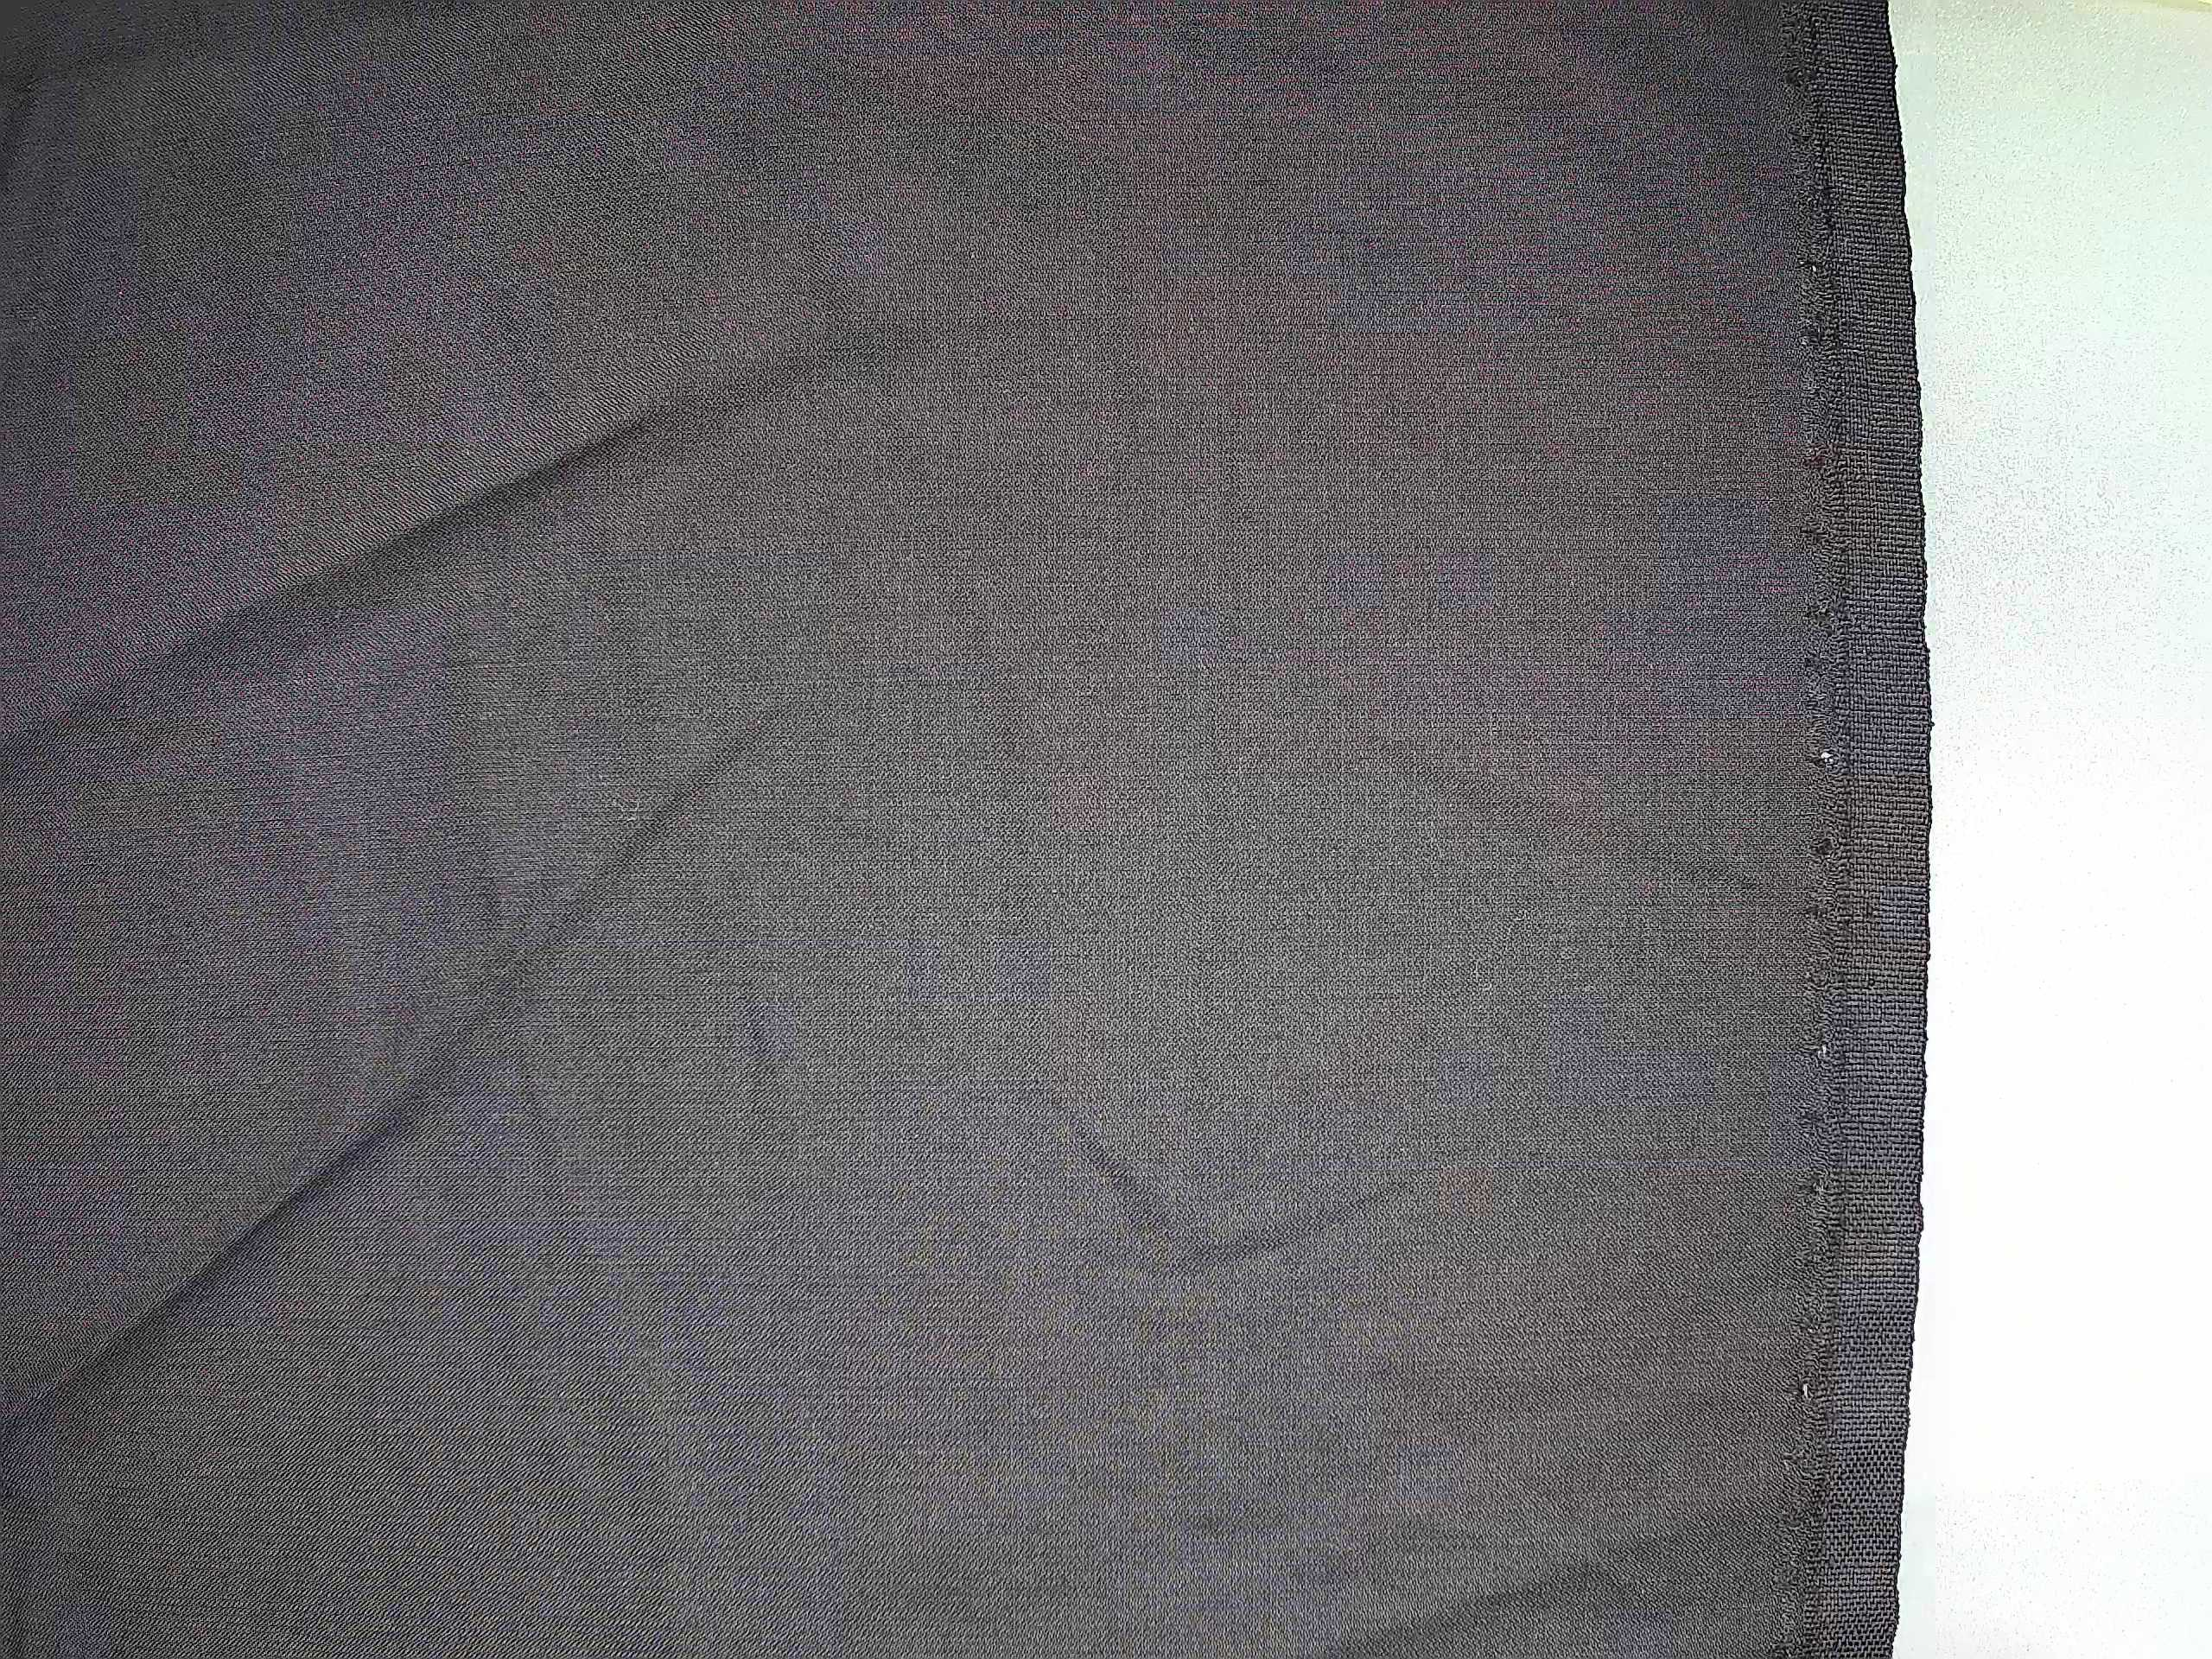puncture-hole: (1780, 44, 1851, 1534)
